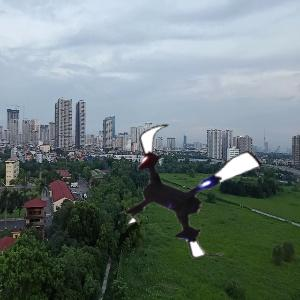drone: (114, 113, 267, 266)
